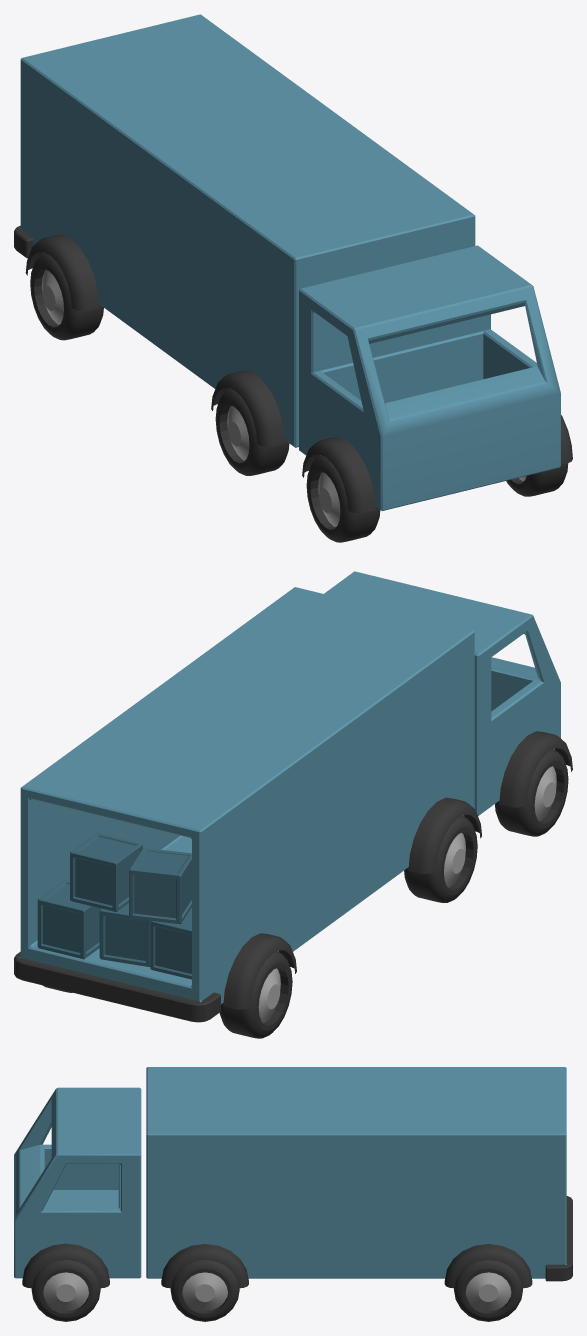
The model's file is truck_mesh.fbx.
3 views of the same model, one above another, from view 1: azimuth 30°, elevation 25°; view 2: azimuth 150°, elevation 25°; view 3: azimuth 270°, elevation 25° (orthographic). The views are drawn at different scales.
Visible parts, largest first — view 1: truck, pCube5, pCylinder39, pCylinder30, pCylinder38, pCylinder25, pCylinder27, pCylinder23, pCylinder37; view 2: truck, pCube5, pCube13, pCube12, pCube6, pCylinder38, pCylinder39, pCylinder30, pCube7, pCylinder27, pCylinder23, pCylinder25 (+1 smaller); view 3: truck, pCube5, pCylinder36, pCylinder37, pCylinder35, pCylinder28, pCylinder23, pCylinder25.
Boxes of the visible parts, x1,y1,x2,y2 form: truck: [14, 14, 475, 447]; pCube5: [299, 245, 560, 510]; pCylinder39: [306, 455, 380, 542]; pCylinder30: [30, 253, 103, 340]; pCylinder38: [215, 389, 289, 475]; pCylinder25: [211, 370, 284, 446]; pCylinder27: [302, 437, 375, 513]; pCylinder23: [25, 234, 99, 311]; pCylinder37: [506, 463, 568, 496]; truck: [14, 587, 474, 1022]; pCube5: [324, 571, 560, 815]; pCube13: [129, 848, 191, 923]; pCube12: [70, 833, 142, 911]; pCube6: [37, 880, 101, 959]; pCylinder38: [404, 816, 477, 902]; pCylinder39: [495, 749, 568, 836]; pCylinder30: [219, 951, 292, 1038]; pCube7: [99, 903, 150, 966]; pCylinder27: [499, 731, 572, 807]; pCylinder23: [223, 933, 296, 1009]; pCylinder25: [408, 797, 481, 873]; truck: [146, 1067, 572, 1281]; pCube5: [14, 1087, 141, 1278]; pCylinder36: [170, 1260, 239, 1321]; pCylinder37: [31, 1260, 100, 1321]; pCylinder35: [454, 1260, 522, 1321]; pCylinder28: [22, 1243, 109, 1288]; pCylinder23: [444, 1244, 532, 1288]; pCylinder25: [161, 1244, 248, 1288].
Bounding box in the file's own units: 2.47 × 2.52 × 6.99.
